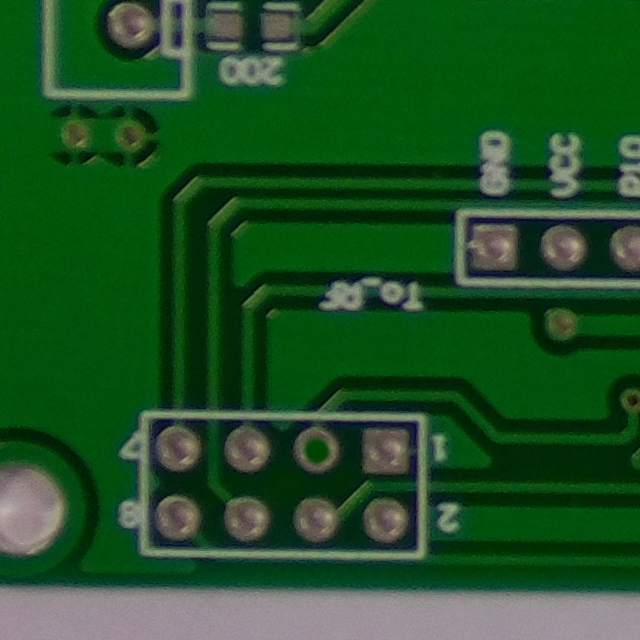missing_hole: (285, 417, 355, 488)
